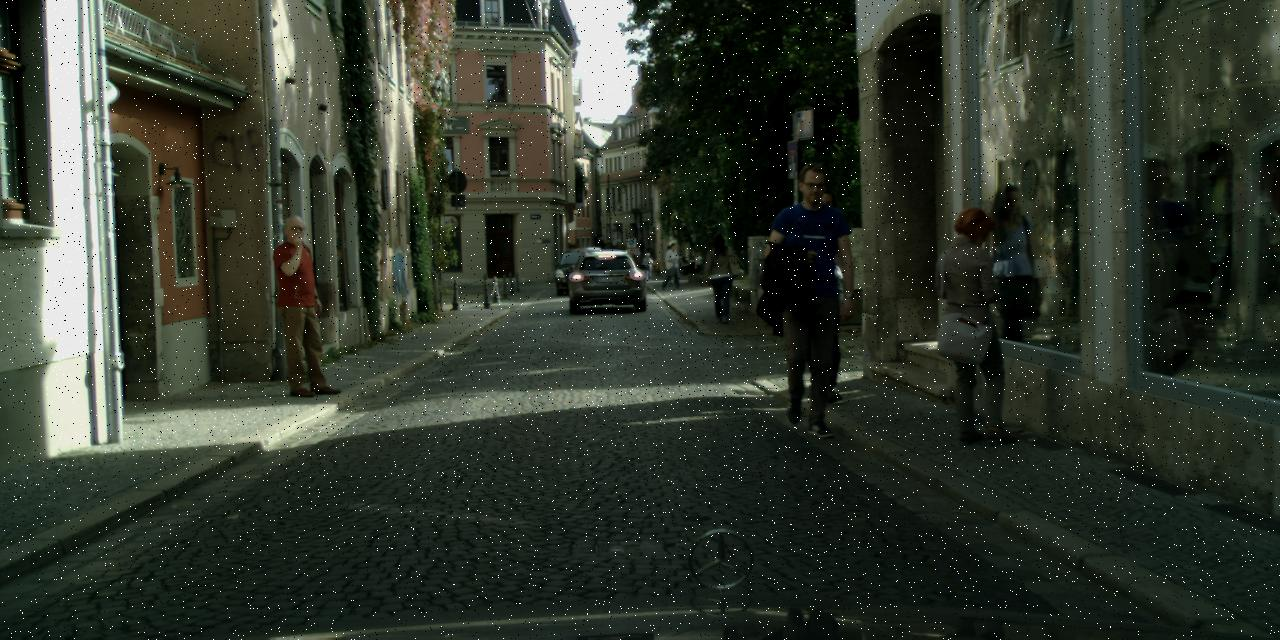ped: (754, 161, 864, 426), (931, 208, 1027, 442), (779, 188, 866, 403), (265, 214, 339, 394), (702, 233, 738, 323), (663, 243, 681, 288), (642, 252, 652, 279), (643, 244, 651, 265), (638, 240, 644, 256)
